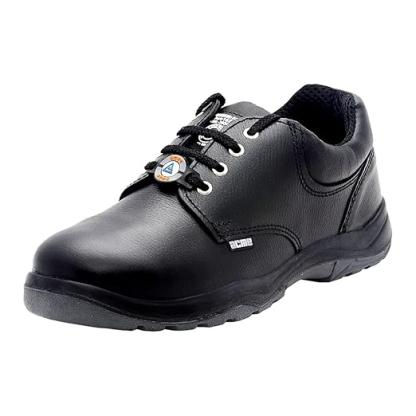bota: (21, 81, 395, 333)
